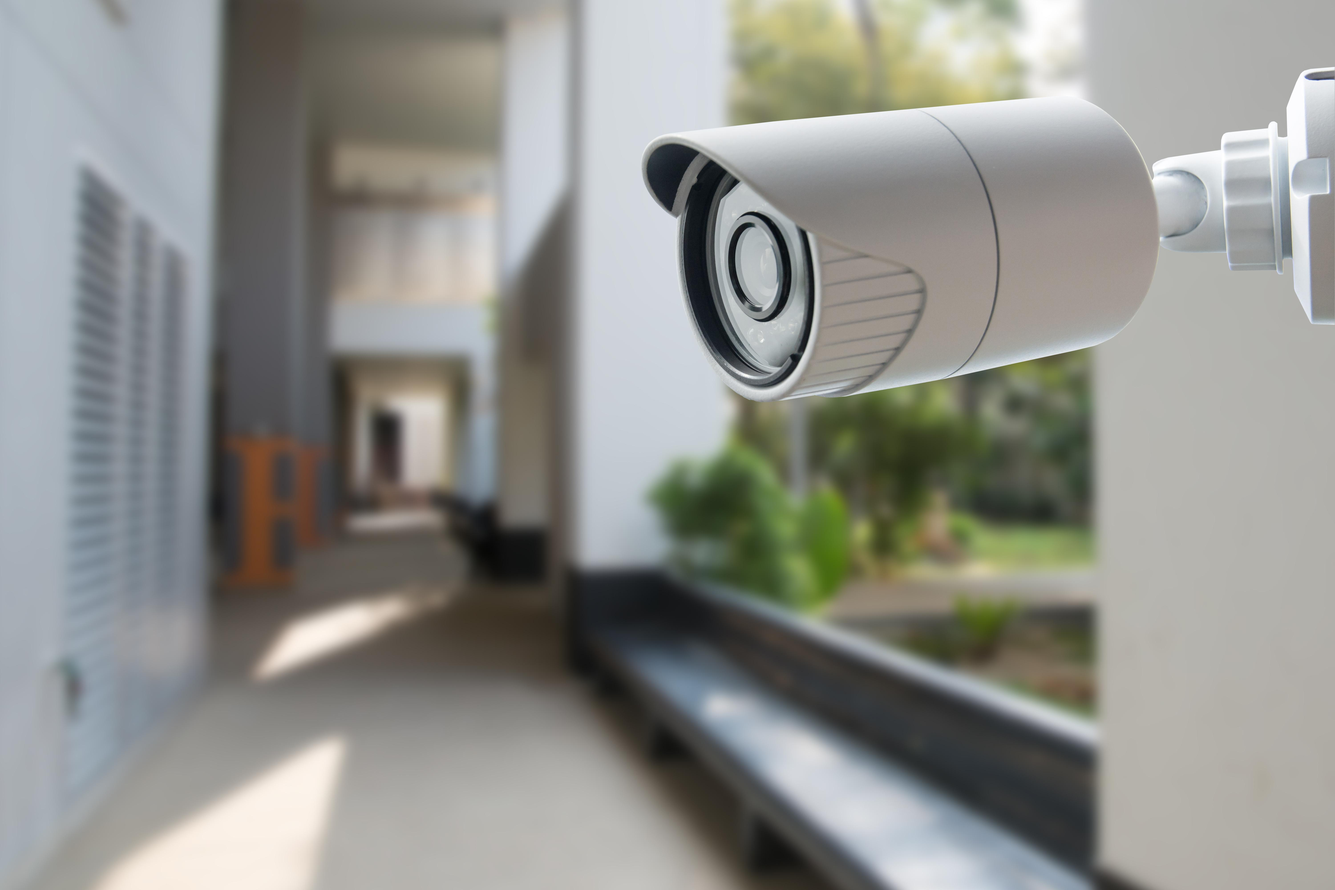CCTV: (643, 65, 1335, 400)
